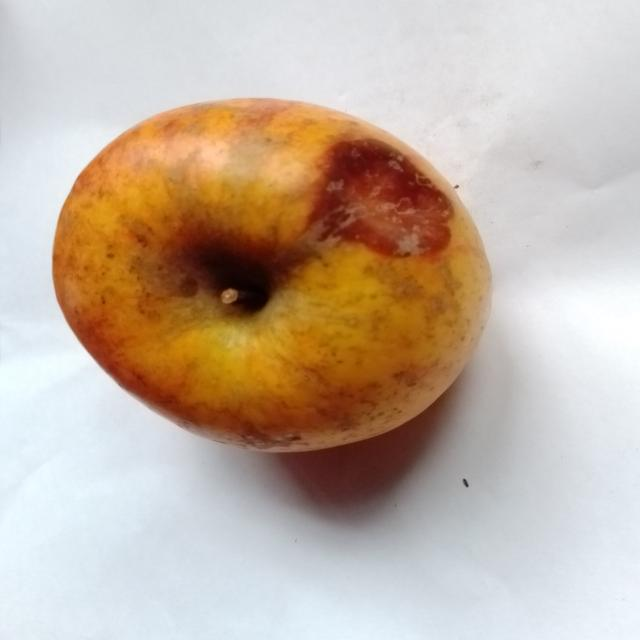apple: (54, 100, 490, 451)
